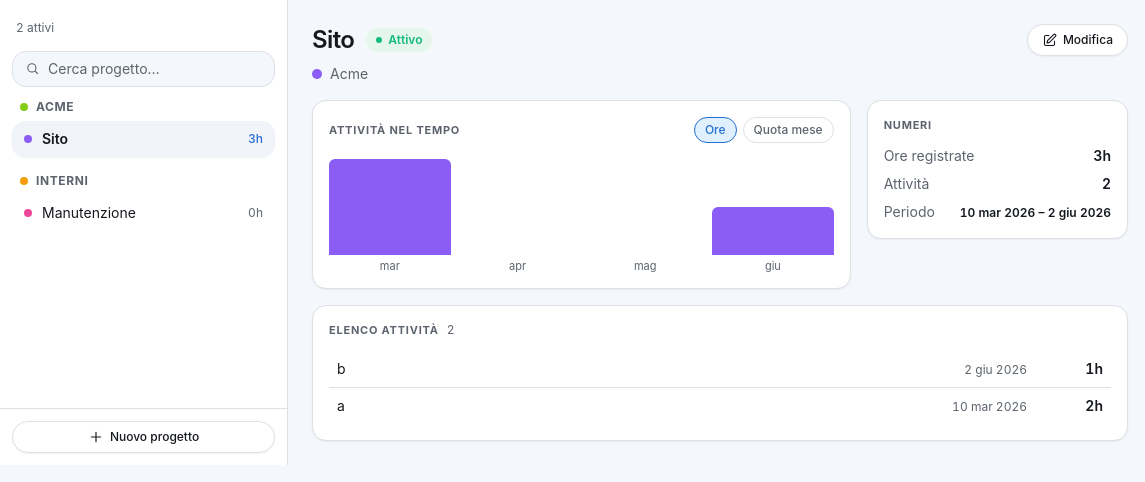
ProjectsView › raggruppa per cliente e mostra le statistiche del progetto scelto
The width and height of the screenshot is (1145, 482).
Expected: the heading "Acme" is shown, [36,98,74,114]
Expected: the heading "Interni" is shown, [36,172,88,188]
# selezionando il progetto interno cambia il dettaglio
Click the text "Manutenzione": (89, 212) [42,204,136,220]
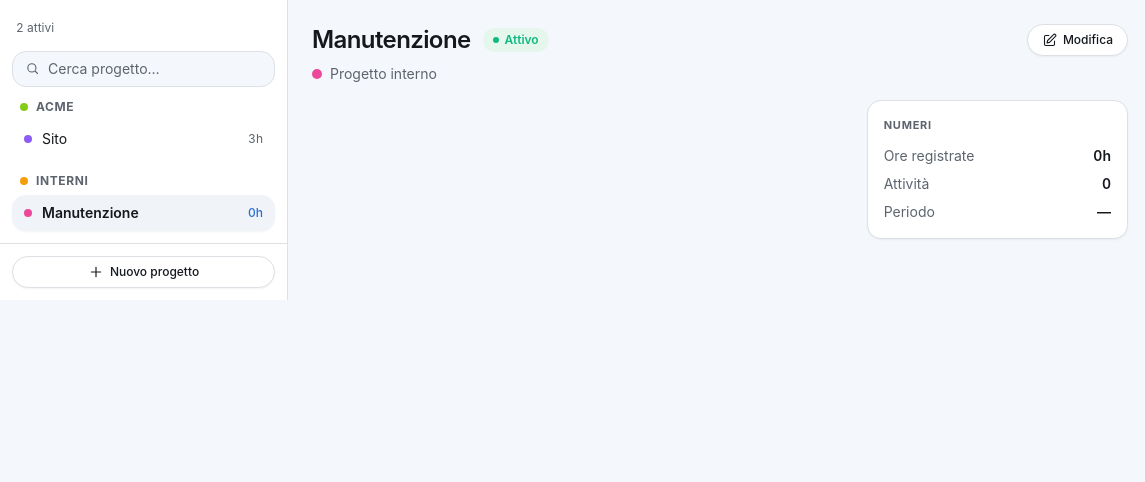
Now the heading "Manutenzione" is shown, box [312,24,471,56]
